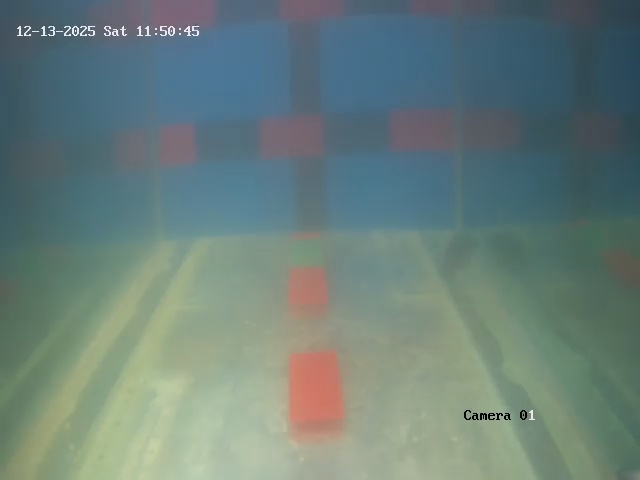fish: (427, 227, 491, 283)
